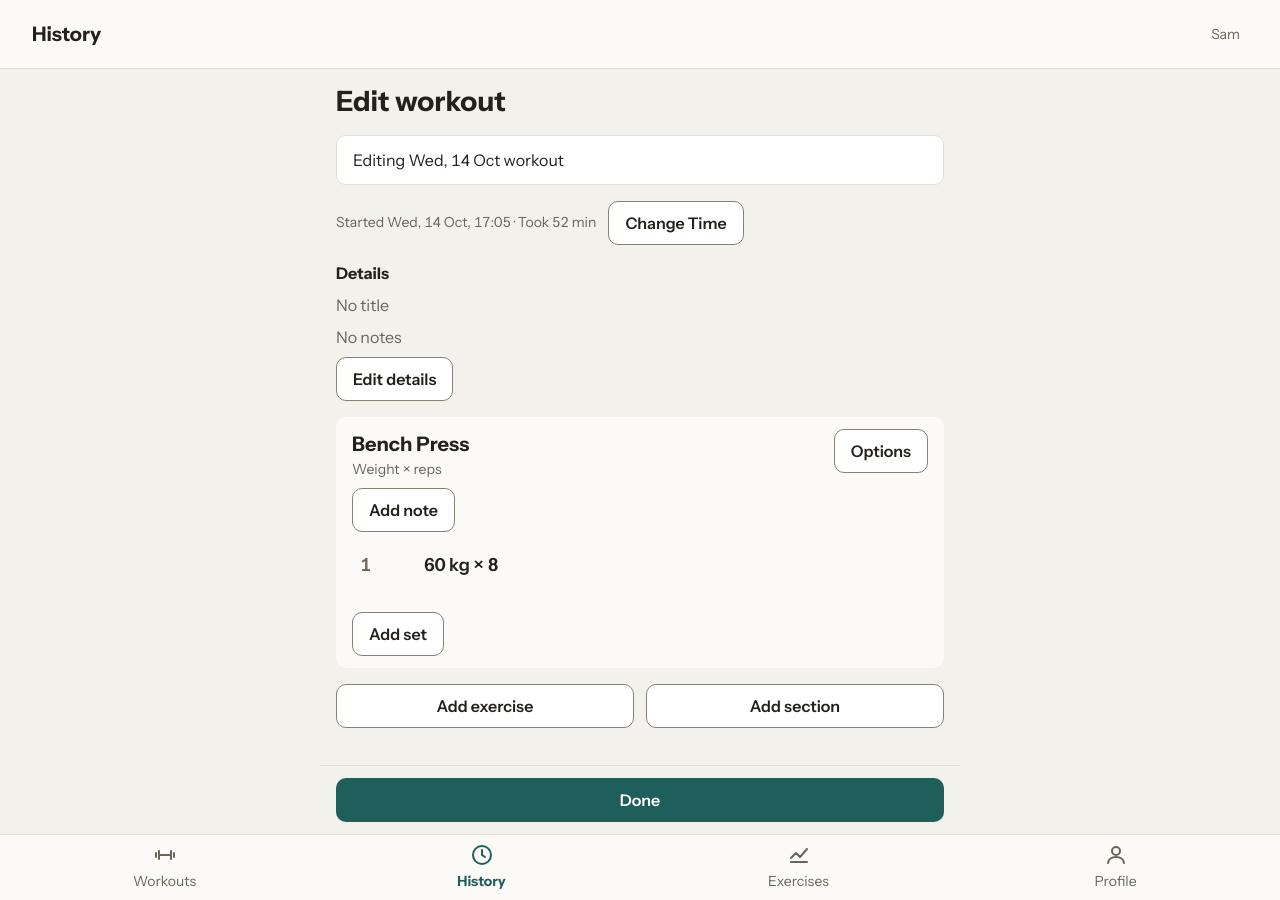
Test: 18.0 AC41 — edit failures › offline: the offline copy in the sheet, values kept, the detail untouched
This screenshot has width=1280, height=900.
Expected: the heading "Edit workout" is shown, [336,84,506,118]
Click the button "Change Time" at point(676, 223), box [608,201,744,245]
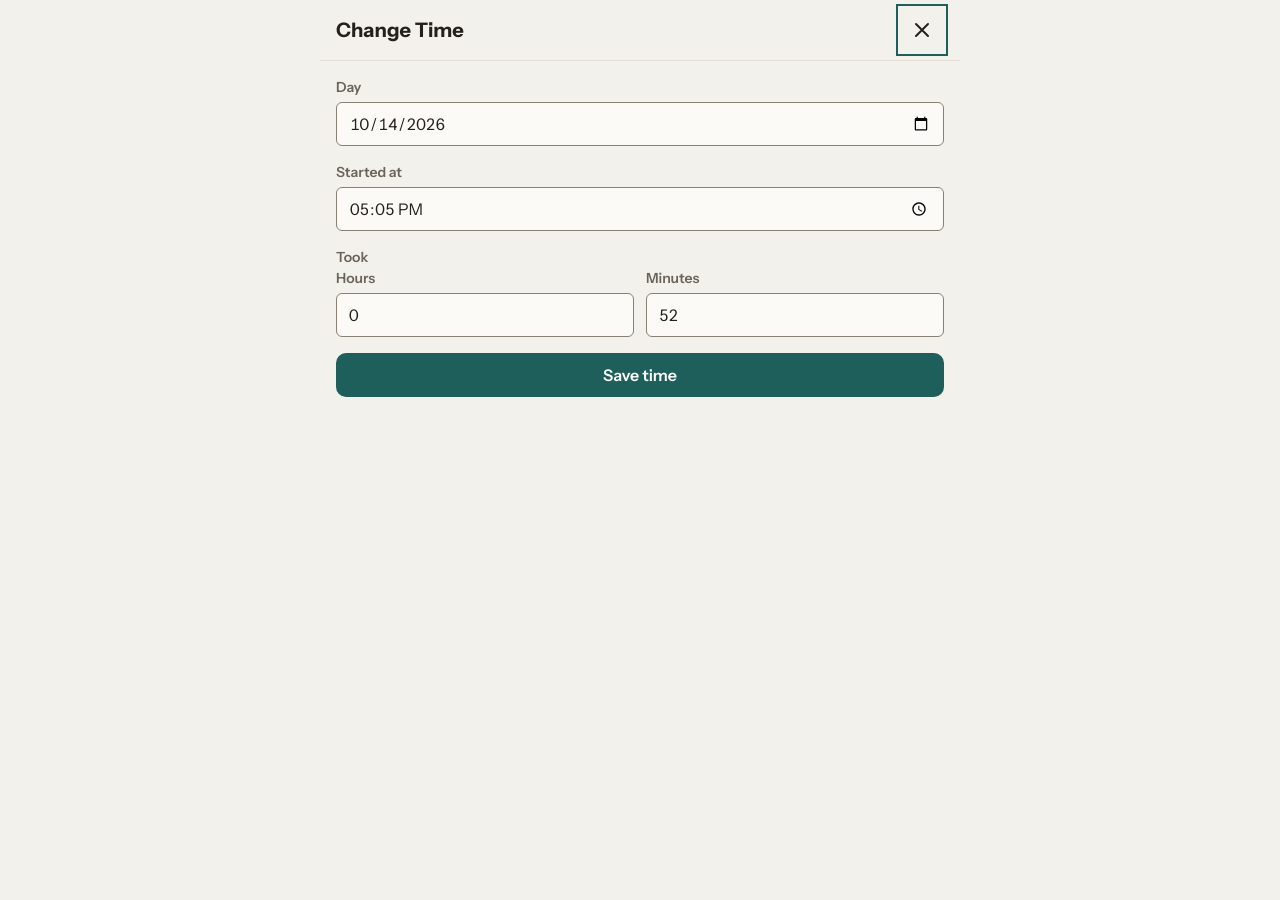
Type "2026-10-16" into the date field labelled "Day" at point(640, 124), box [336,102,944,146]
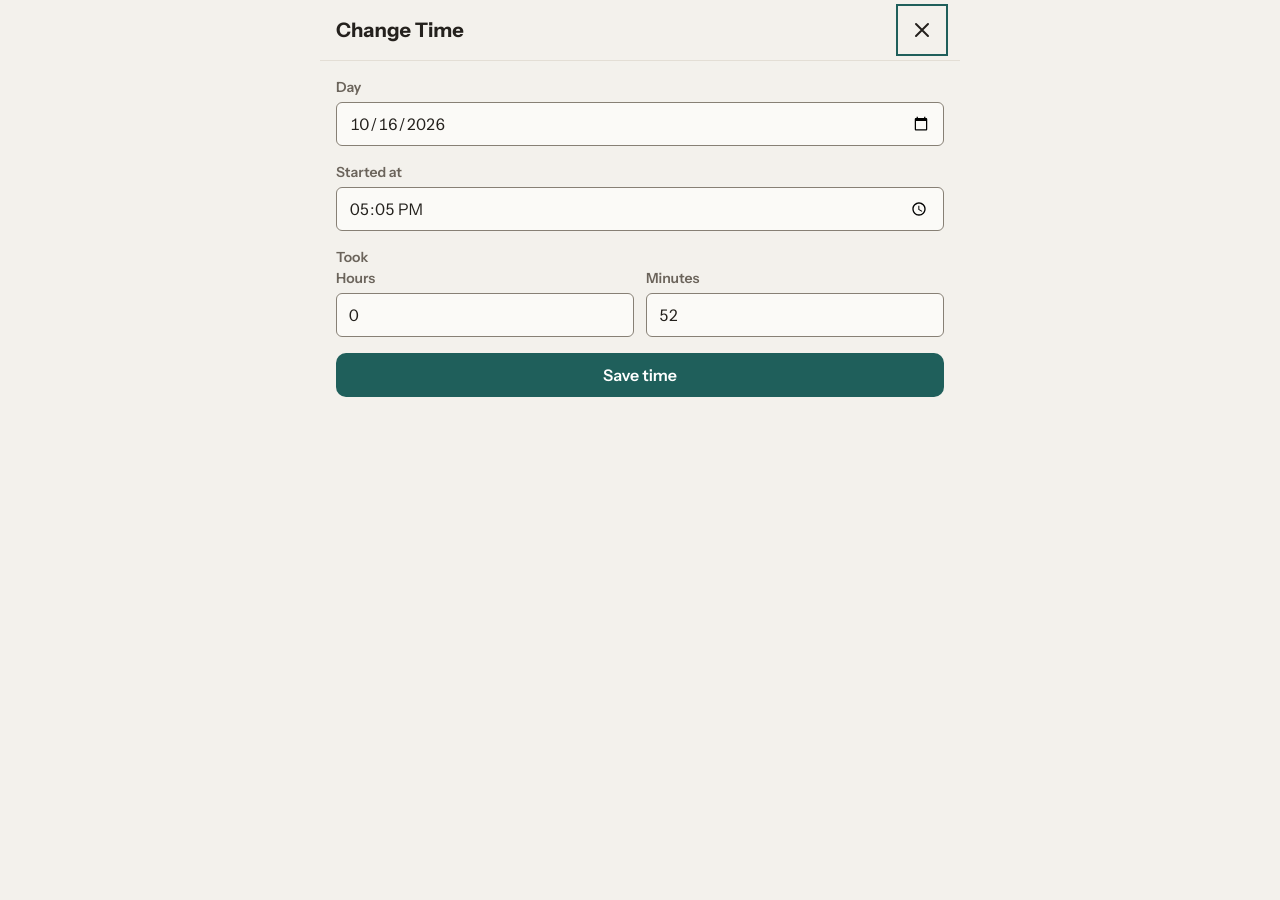
Click the button "Save time" at point(640, 375), box [336,353,944,397]
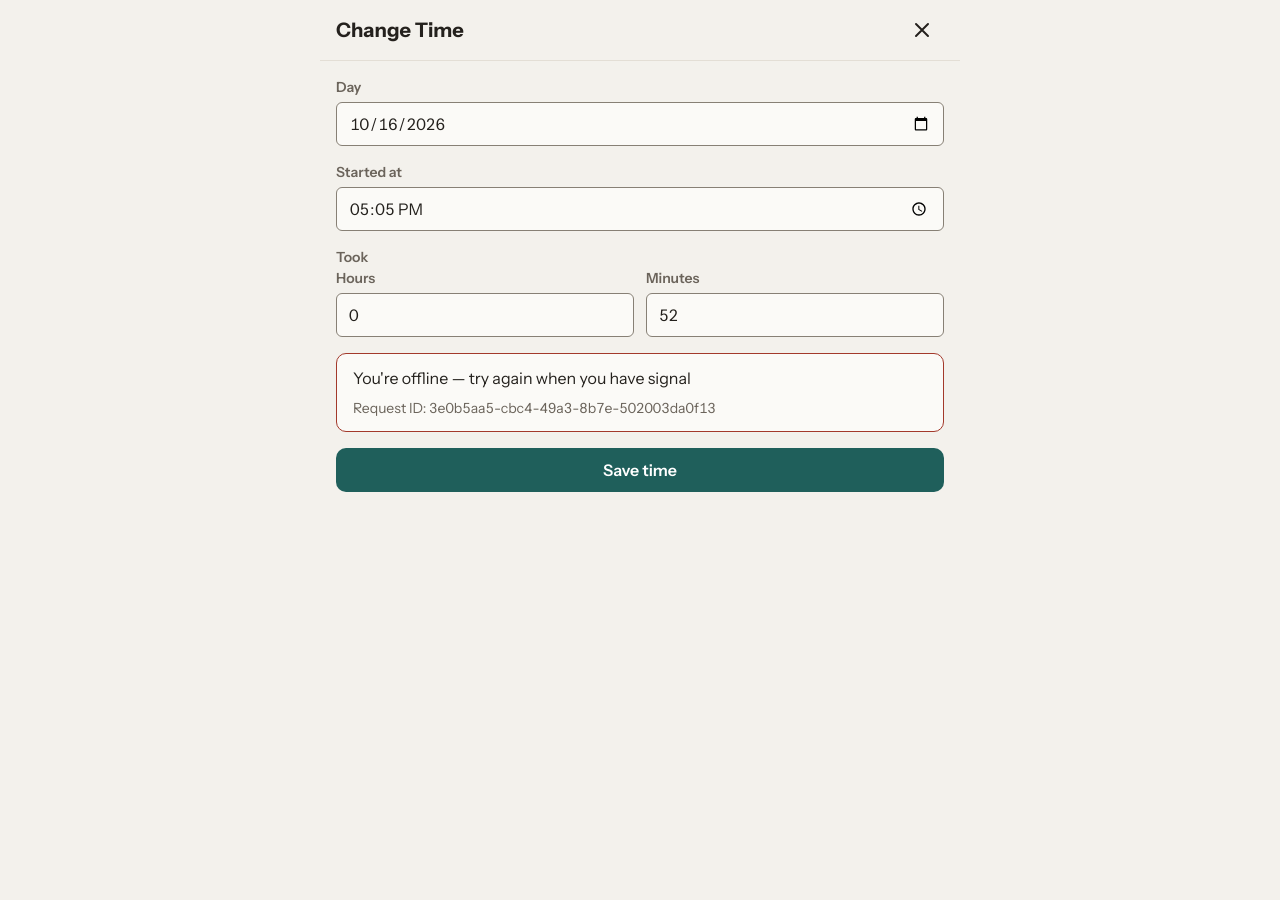
Expected: the text "You're offline — try again when you have signal" is shown, [353,366,691,390]
